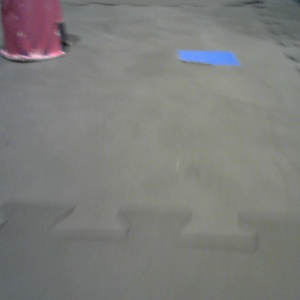middle: (1, 1, 74, 62)
